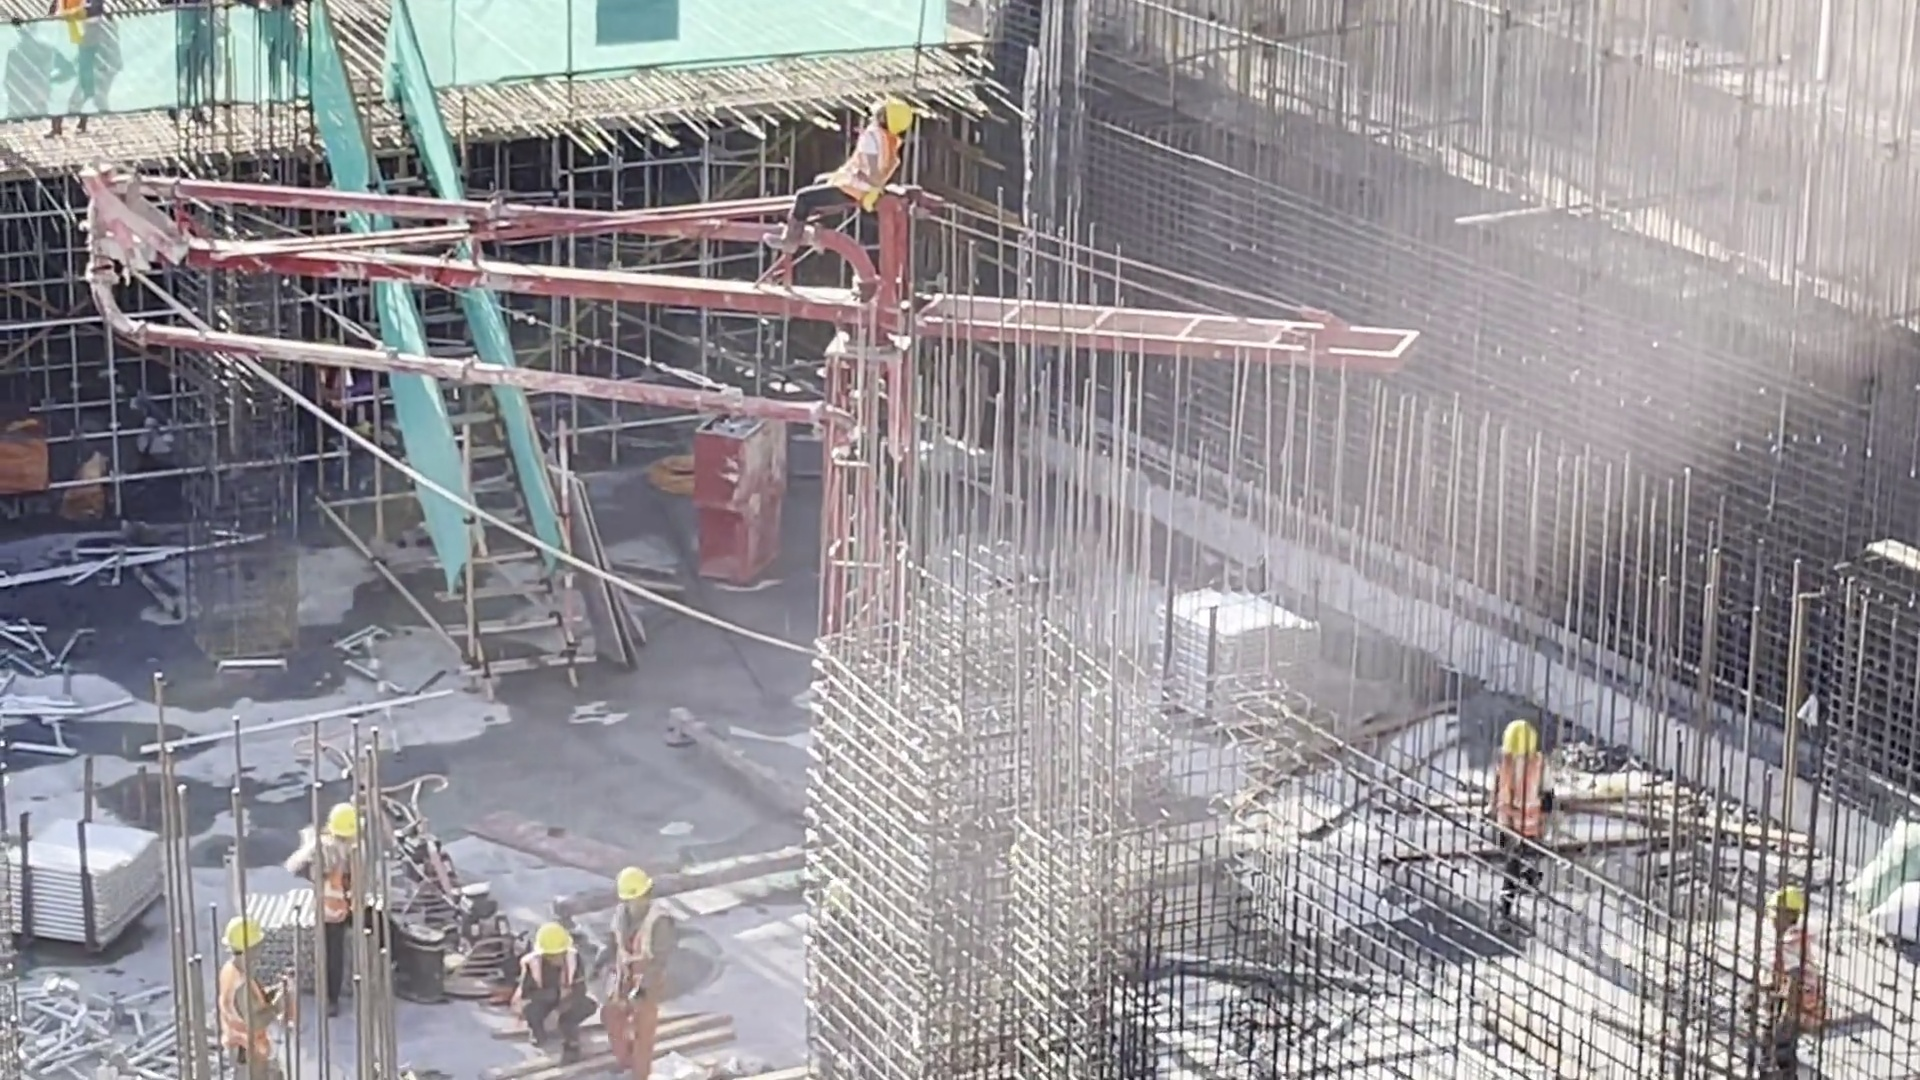helmet: (529, 915, 581, 958), (217, 913, 271, 953), (880, 94, 910, 150), (606, 867, 655, 901), (325, 801, 367, 838), (1507, 717, 1540, 752), (1773, 883, 1810, 909)
person: (282, 785, 406, 1027), (1736, 875, 1844, 1080), (195, 898, 308, 1076), (585, 865, 674, 1080), (769, 97, 893, 246), (1495, 716, 1575, 891), (503, 904, 578, 1050), (160, 1, 240, 127), (52, 1, 106, 138), (258, 1, 318, 116)
vest: (604, 905, 675, 1011), (209, 963, 275, 1055), (841, 126, 912, 211), (310, 850, 371, 927), (1768, 932, 1817, 1025), (1499, 763, 1552, 841), (522, 955, 590, 1016)
